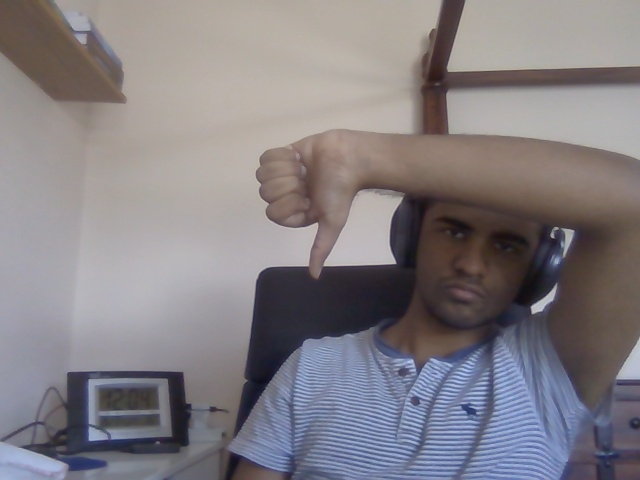No: (255, 128, 354, 281)
